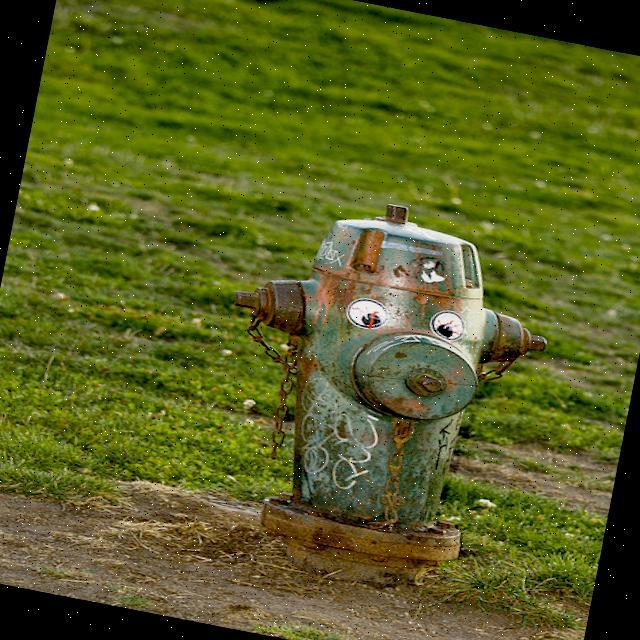fire_hydrant: (183, 175, 574, 615)
